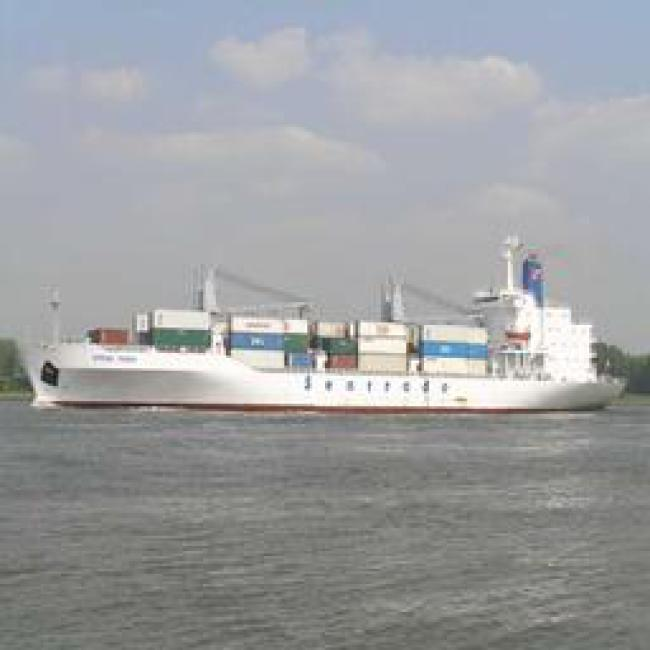Ship: (13, 279, 641, 435)
